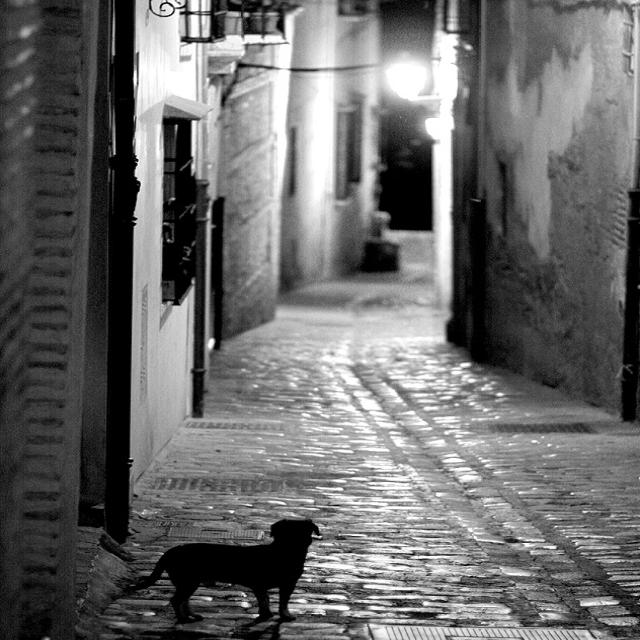Dog: (142, 482, 365, 640)
